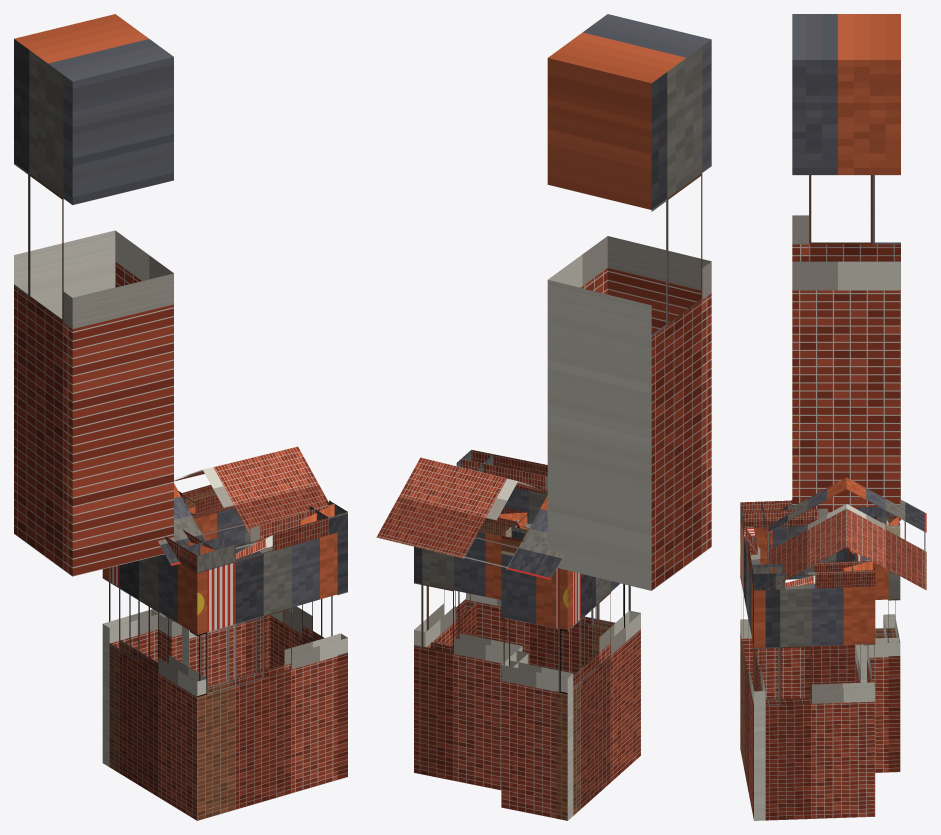
3 renders of one model, left to right at view 1: azimuth 30°, elevation 25°; view 2: azimuth 150°, elevation 25°; view 3: azimuth 270°, elevation 25°, orthographic. The views are drawn at different scales.
Parts seen in each view (by area): view 1: 717953671__chimney_0_xb, 717953671__wall_1_xb, 717953671__wall_0_xb, 717953671_roof_-1_xb, 717953671__wall_3_xb, 717953671__wall_2_xb, 717953671__cornice_1, 717953671__wall_5_xb, 717953671__wall_4_xb, 717953671__cornice_3, 717953671__cornice_0; view 2: 717953671__chimney_0_xb, 717953671__wall_3_xb, 717953671__wall_0_xb, 717953671__wall_5_xb, 717953671_roof_1_xb, 717953671__wall_1_xb, 717953671__wall_4_xb, 717953671__wall_2_xb, 717953671__cornice_1, 717953671__cornice_3; view 3: 717953671__chimney_0_xb, 717953671__wall_2_xb, 717953671__wall_0_xb, 717953671__wall_1_xb, 717953671_roof_1_xb, 717953671_roof_-1_xb, 717953671__wall_4_xb, 717953671__cornice_2, 717953671__wall_5_xb, 717953671__cornice_0, 717953671__cornice_1, 717953671__wall_3_xb.
Boxes of the visible parts, bbox=[...] form: 717953671__chimney_0_xb: bbox=[14, 14, 173, 576]; 717953671__wall_1_xb: bbox=[190, 532, 347, 820]; 717953671__wall_0_xb: bbox=[103, 554, 207, 820]; 717953671_roof_-1_xb: bbox=[158, 446, 328, 565]; 717953671__wall_3_xb: bbox=[182, 507, 270, 686]; 717953671__wall_2_xb: bbox=[270, 529, 347, 779]; 717953671__cornice_1: bbox=[184, 503, 334, 573]; 717953671__wall_5_xb: bbox=[102, 567, 166, 766]; 717953671__wall_4_xb: bbox=[151, 609, 181, 663]; 717953671__cornice_3: bbox=[182, 484, 234, 518]; 717953671__cornice_0: bbox=[165, 530, 215, 572]; 717953671__chimney_0_xb: bbox=[547, 14, 711, 590]; 717953671__wall_3_xb: bbox=[414, 532, 522, 790]; 717953671__wall_0_xb: bbox=[556, 568, 640, 820]; 717953671__wall_5_xb: bbox=[501, 556, 573, 820]; 717953671_roof_1_xb: bbox=[376, 457, 563, 579]; 717953671__wall_1_xb: bbox=[466, 488, 630, 674]; 717953671__wall_4_xb: bbox=[501, 554, 528, 809]; 717953671__wall_2_xb: bbox=[414, 589, 477, 648]; 717953671__cornice_1: bbox=[461, 450, 547, 493]; 717953671__cornice_3: bbox=[479, 508, 527, 536]; 717953671__chimney_0_xb: bbox=[792, 14, 900, 520]; 717953671__wall_2_xb: bbox=[753, 584, 875, 820]; 717953671__wall_0_xb: bbox=[740, 520, 895, 699]; 717953671__wall_1_xb: bbox=[740, 525, 765, 820]; 717953671_roof_1_xb: bbox=[846, 477, 926, 590]; 717953671_roof_-1_xb: bbox=[766, 477, 846, 590]; 717953671__wall_4_xb: bbox=[867, 560, 900, 772]; 717953671__cornice_2: bbox=[752, 561, 875, 589]; 717953671__wall_5_xb: bbox=[883, 523, 900, 772]; 717953671__cornice_0: bbox=[740, 500, 894, 527]; 717953671__cornice_1: bbox=[740, 502, 775, 590]; 717953671__wall_3_xb: bbox=[855, 553, 875, 682].
Bounding box in the file's own units: 0.3771 × 1.05 × 0.2564.
1 material, 1 textured.
